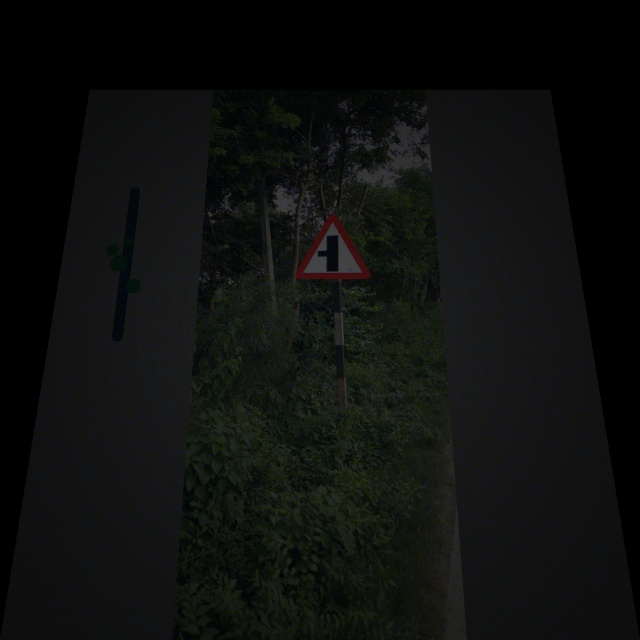Side_Road_Left: (292, 214, 366, 279)
